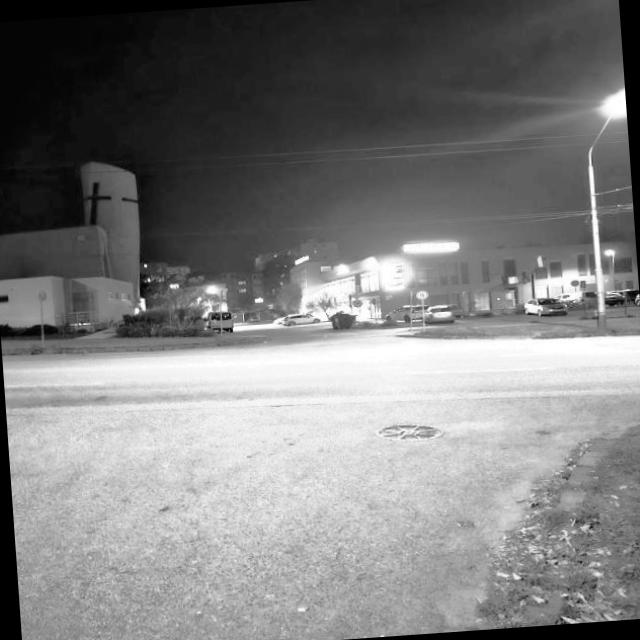Light: (571, 79, 640, 336)
